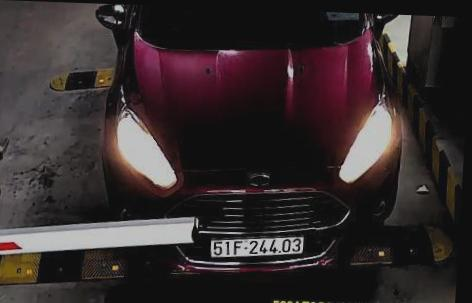License_Plate: (204, 230, 313, 263)
